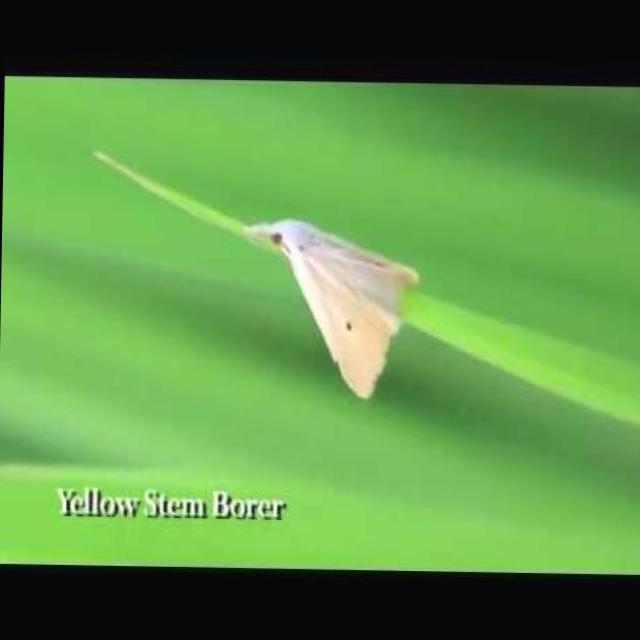stem borer: (233, 221, 418, 397)
